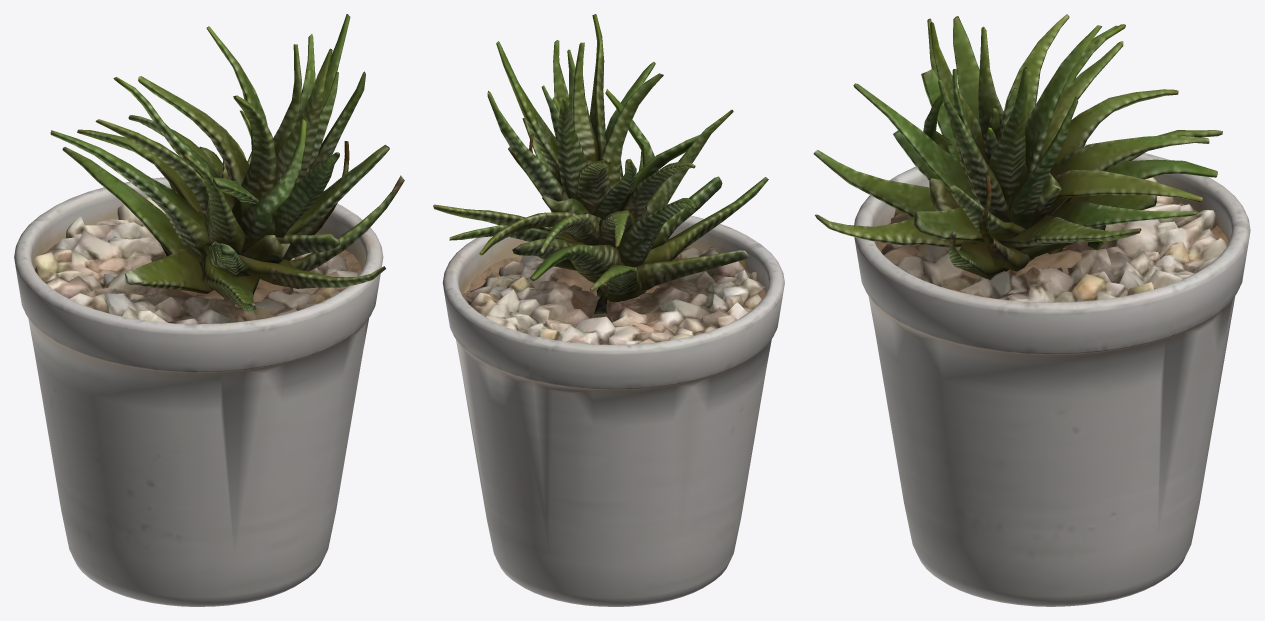
Rendered from potted_plant_04.glb.
The picture shows the model from 3 angles, left to right: view 1: azimuth 30°, elevation 25°; view 2: azimuth 150°, elevation 25°; view 3: azimuth 270°, elevation 25°; orthographic projection. The views are drawn at different scales.
Parts seen in each view (by area): view 1: potted_plant_04_ground; view 2: potted_plant_04_ground; view 3: potted_plant_04_ground.
Boxes of the visible parts, x1,y1,x2,y2 form: potted_plant_04_ground: [14, 14, 404, 606]; potted_plant_04_ground: [433, 14, 784, 606]; potted_plant_04_ground: [813, 14, 1250, 606].
Size of the model in its own units: 0.1679 by 0.2675 by 0.1847.
Materials: 1 (1 with a texture image).
